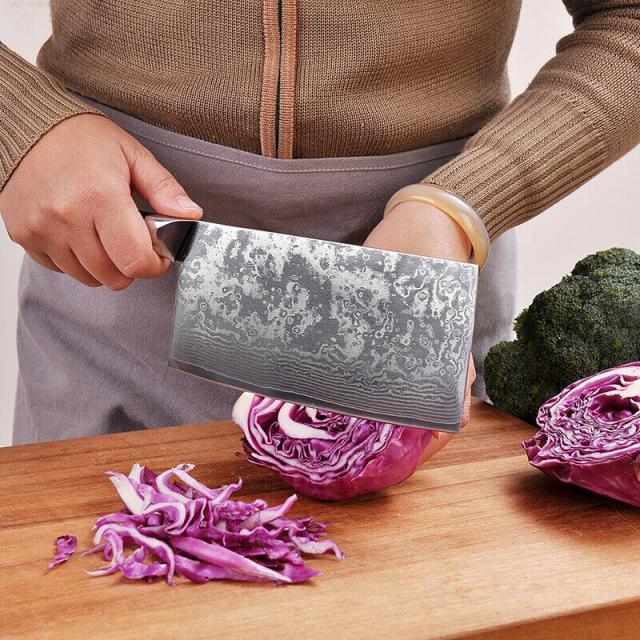cleaver: (0, 131, 491, 409)
